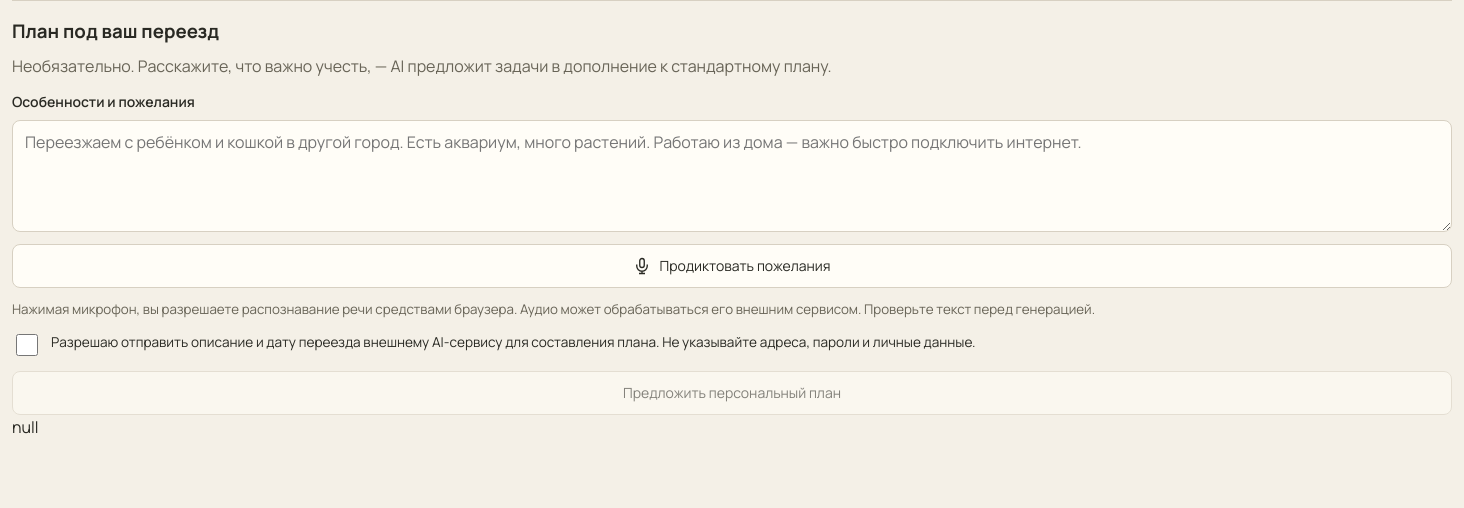
Test: unlocks the form after provider failure and keeps entered text
This screenshot has width=1464, height=508.
Type "Переезжаем с кошкой в другой город" into the text box labelled "Особенности и пожелания" at (732, 176), box [12,120,1452,232]
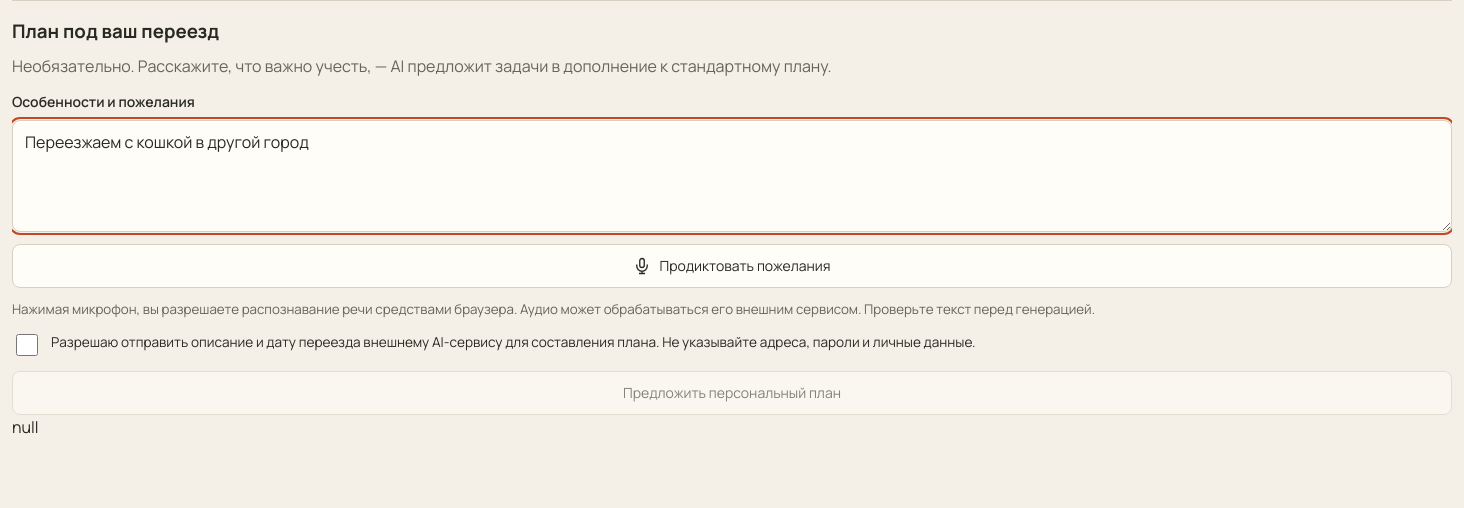
Click the checkbox at (27, 345), box [16,334,38,356]
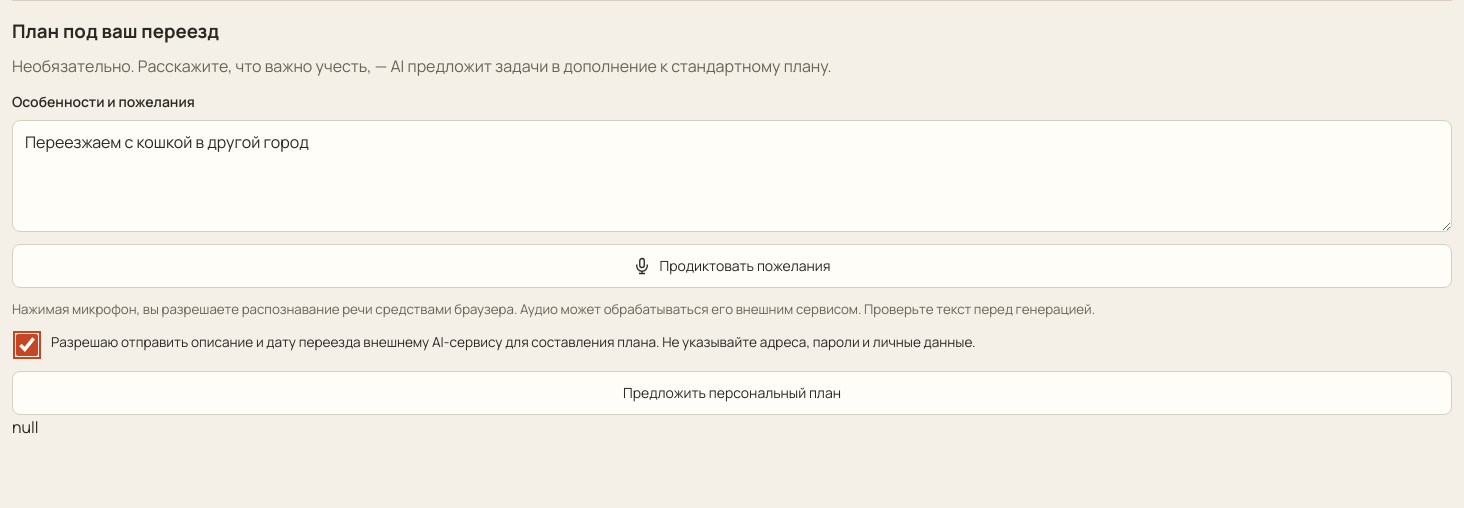
Click the button "Предложить персональный план" at (732, 393), box [12,371,1452,415]
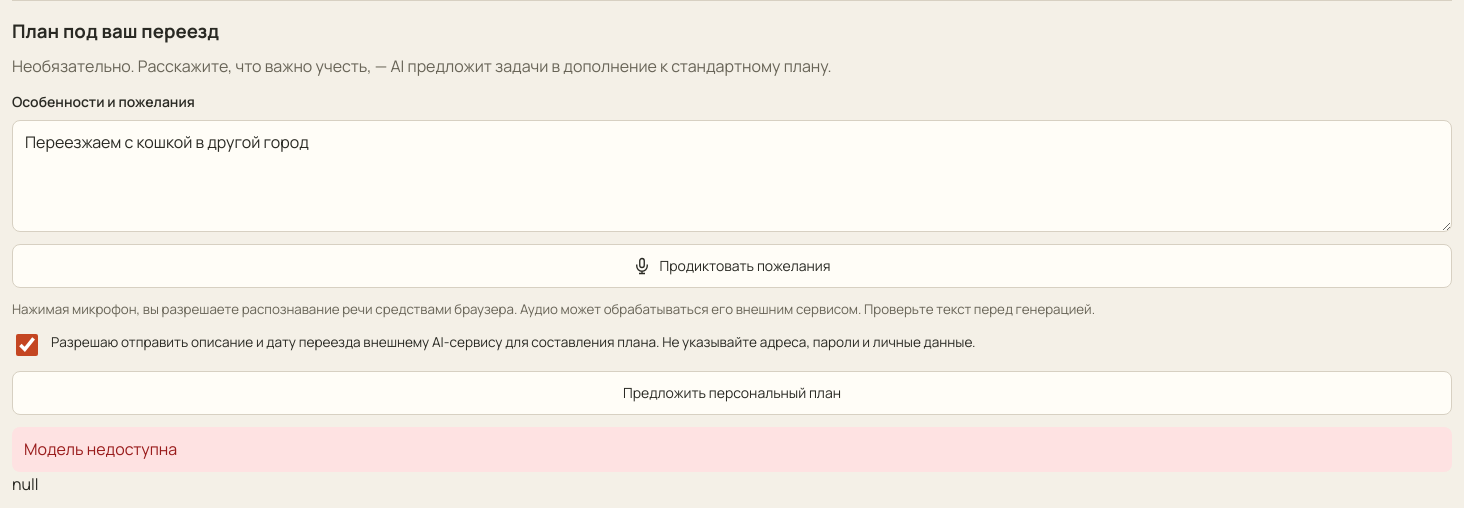
Expected: the button "Предложить персональный план" is enabled, [12,371,1452,415]
Expected: the message reads "Модель недоступна", [24,438,177,460]
